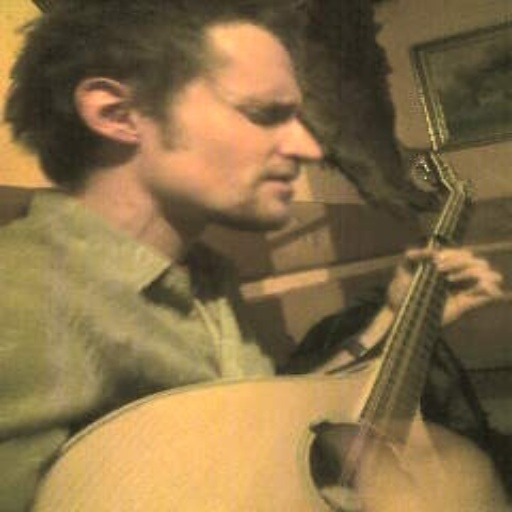hand: (386, 244, 501, 324)
